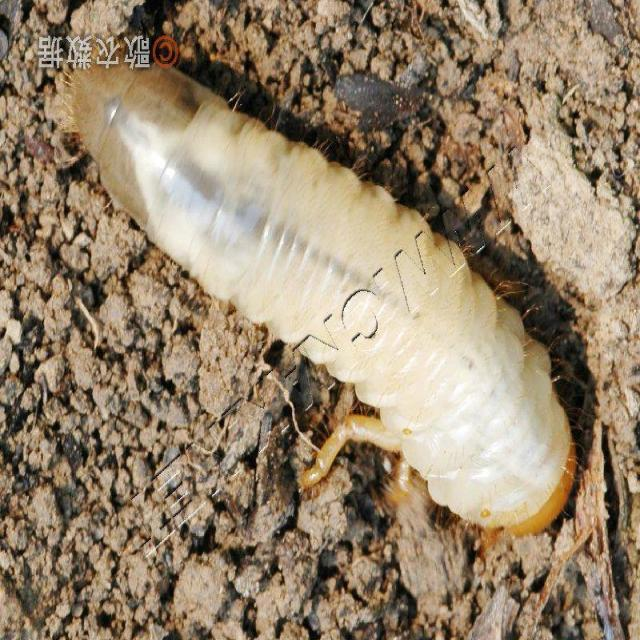grub: (30, 50, 583, 546)
